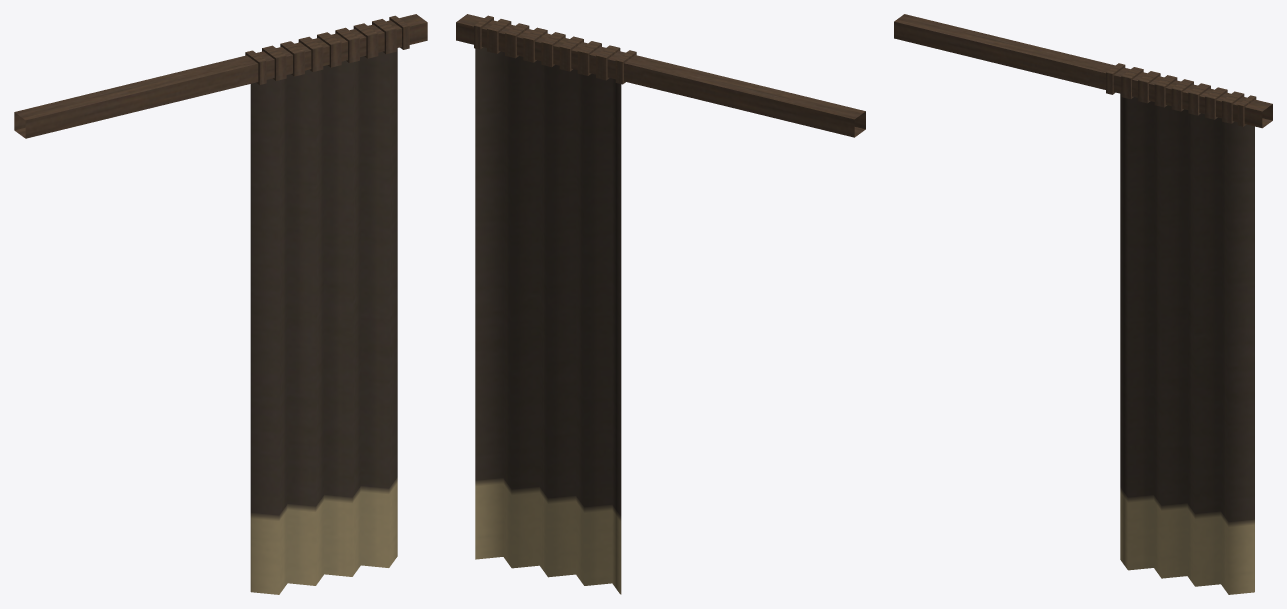
Rendered from Curtain_2B.fbx.
3 renders of one model, left to right at view 1: azimuth 30°, elevation 25°; view 2: azimuth 150°, elevation 25°; view 3: azimuth 330°, elevation 25°, orthographic. The views are drawn at different scales.
Parts seen in each view (by area): view 1: polySurface810; view 2: polySurface810; view 3: polySurface810.
Boxes of the visible parts, <box> form: polySurface810: <box>14,14,427,594</box>; polySurface810: <box>456,14,865,594</box>; polySurface810: <box>894,14,1272,594</box>.
Size of the model in its own units: 2.4 by 3.08 by 0.1452.
